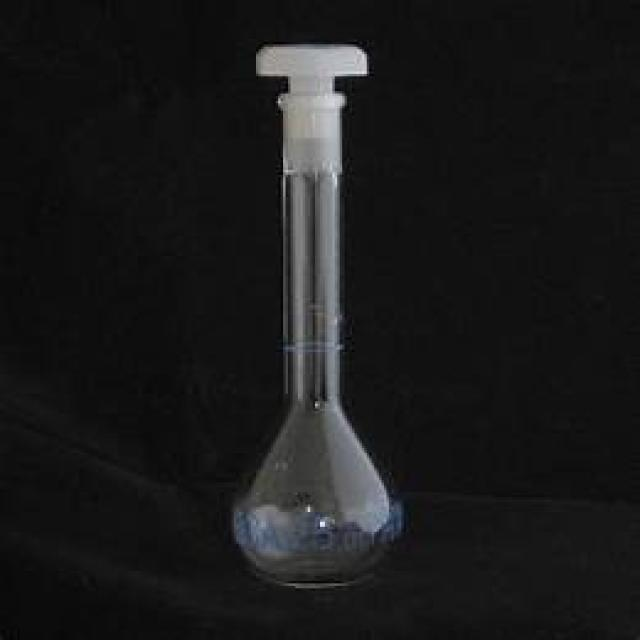Volumetric flask: (201, 41, 424, 589)
